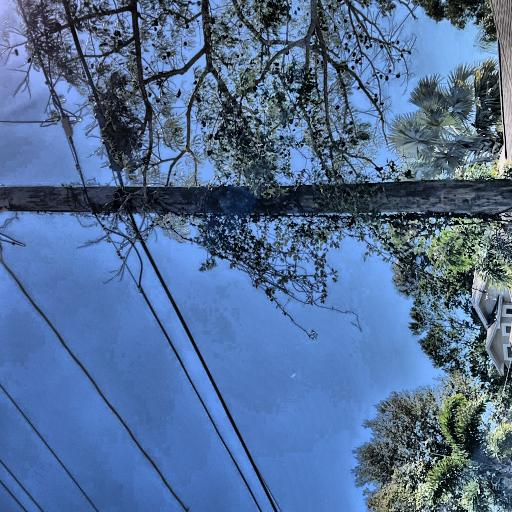pole: (141, 0, 213, 512)
street light: (50, 5, 178, 128)
transformer: (133, 23, 180, 105)
